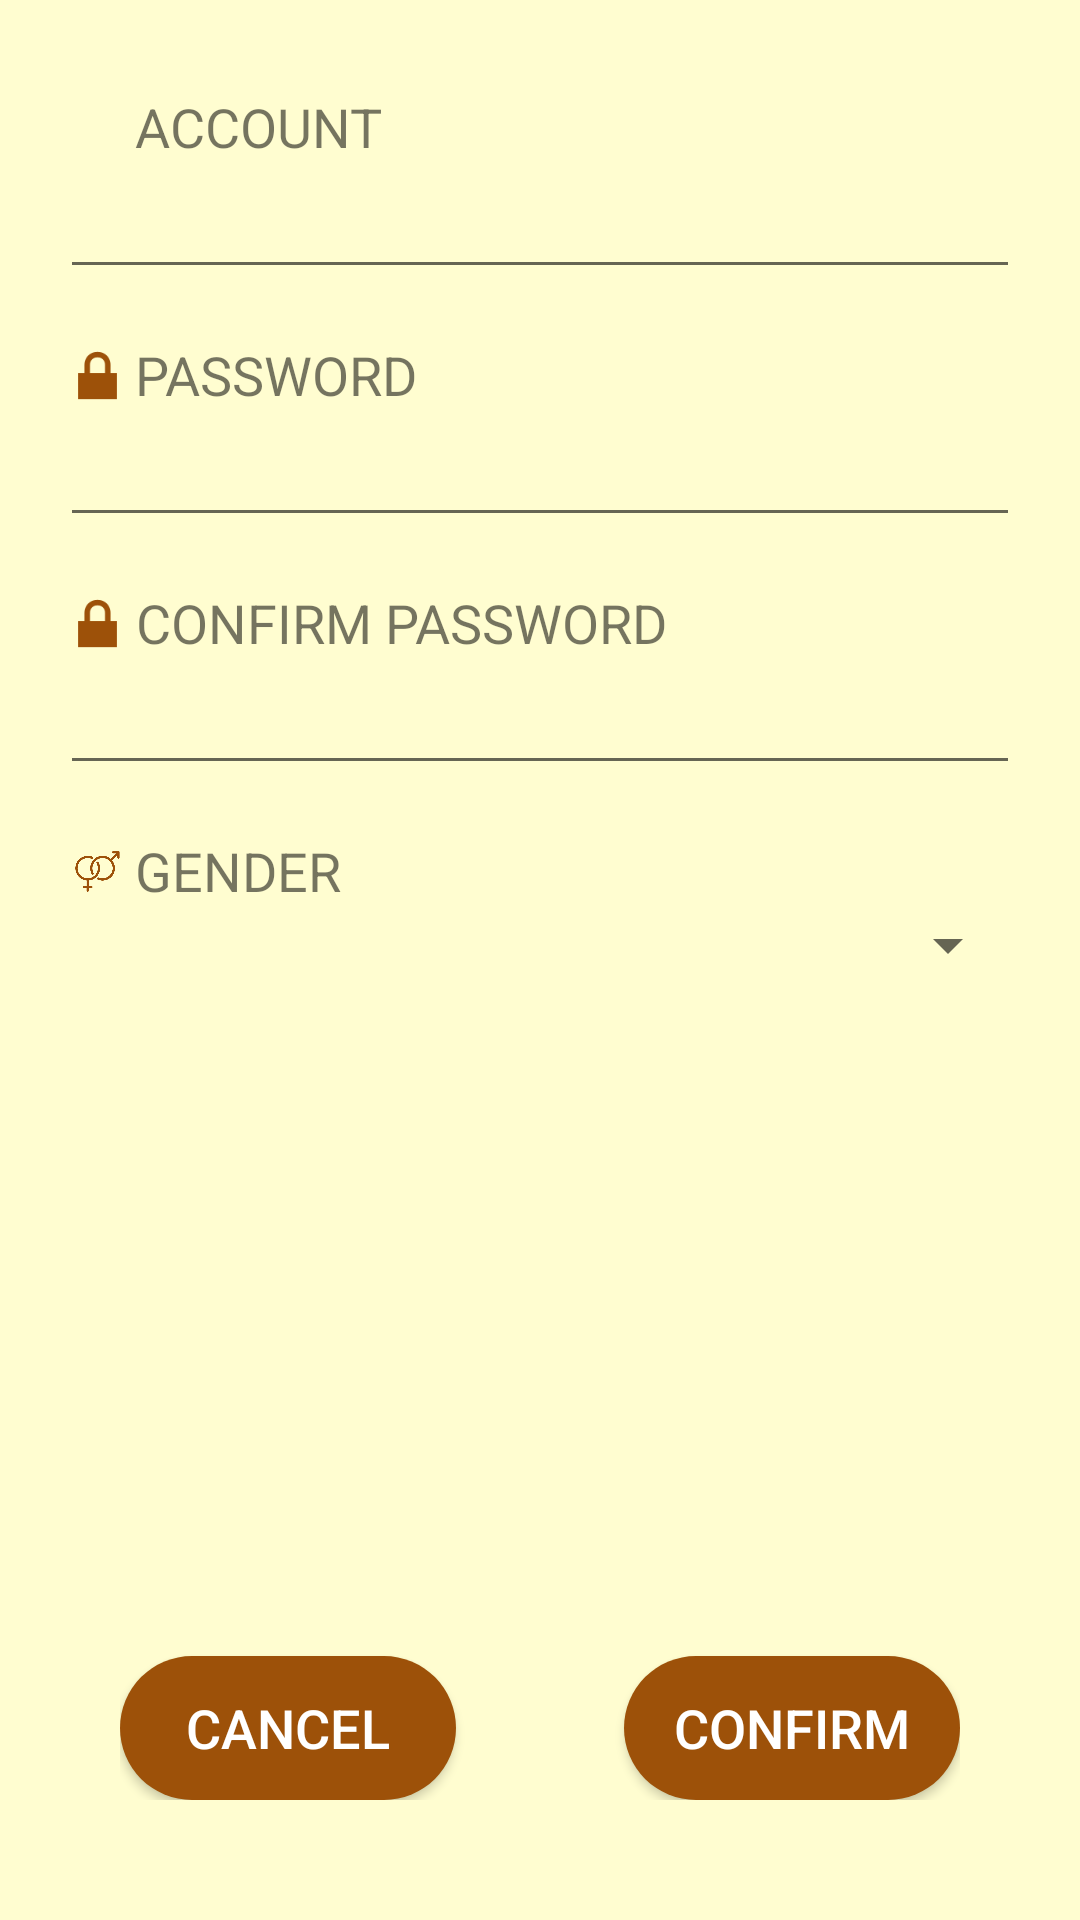

Icons on this 1080 x 1920 Android screen, each with its box as {"x1": x1, "y1": y1, "x2": x2, "y2": y2}:
lock: {"x1": 78, "y1": 351, "x2": 117, "y2": 400}, {"x1": 78, "y1": 599, "x2": 117, "y2": 648}
